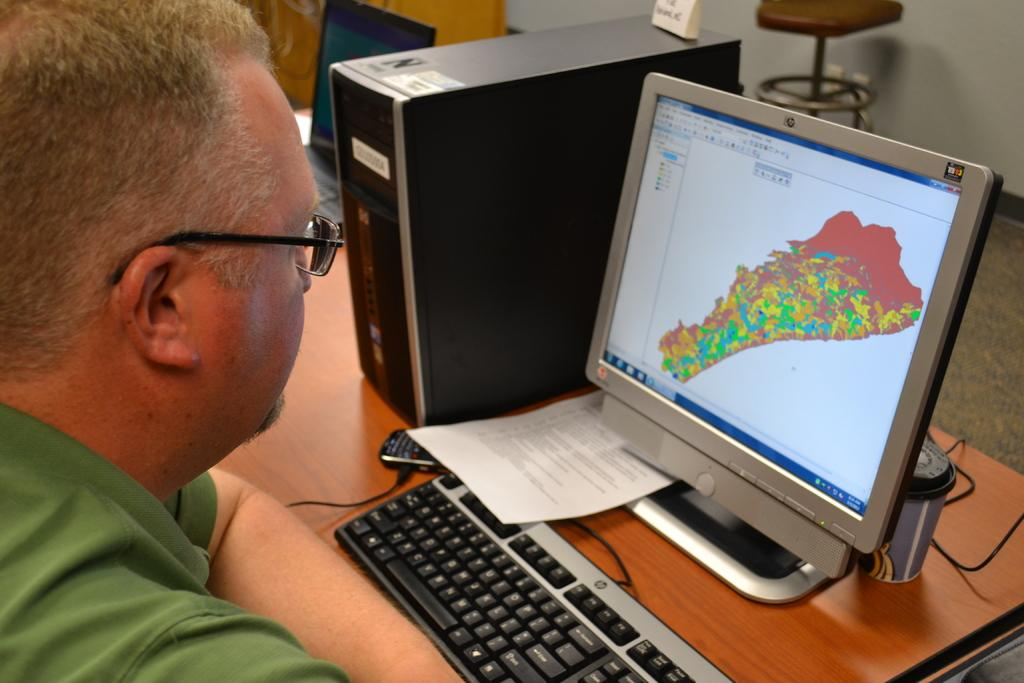Computer-keyboard: (335, 472, 733, 682)
Computer-monitor: (524, 59, 986, 568)
Laptop: (592, 75, 996, 639), (301, 0, 436, 227)
